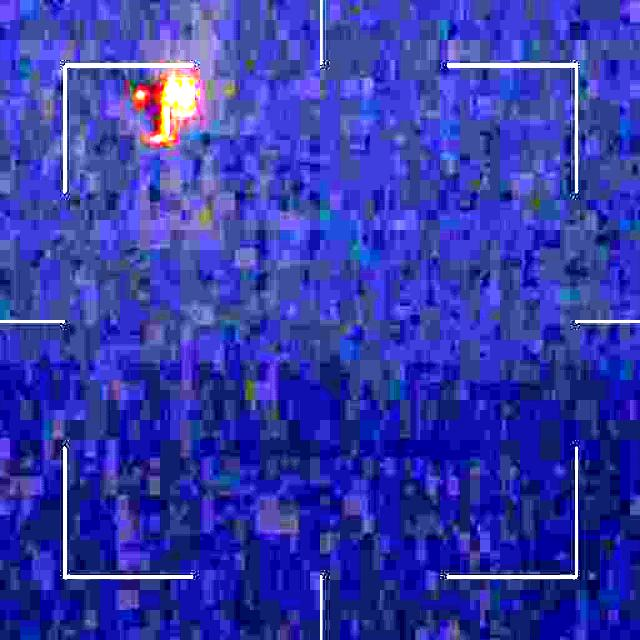bird: (129, 72, 200, 155)
